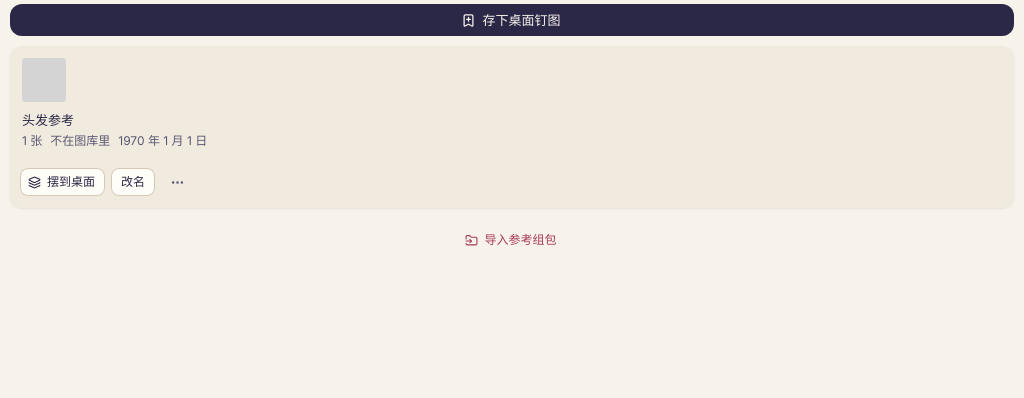
参考组面板 › 参考组自带的截图在成员和缩略图里照常显示
Check: the element with class "reference-group-meta" shows "不在图库里", box [50,133,110,148]
Click the button named "更多操作": x=177, y=182 [161,166,193,198]
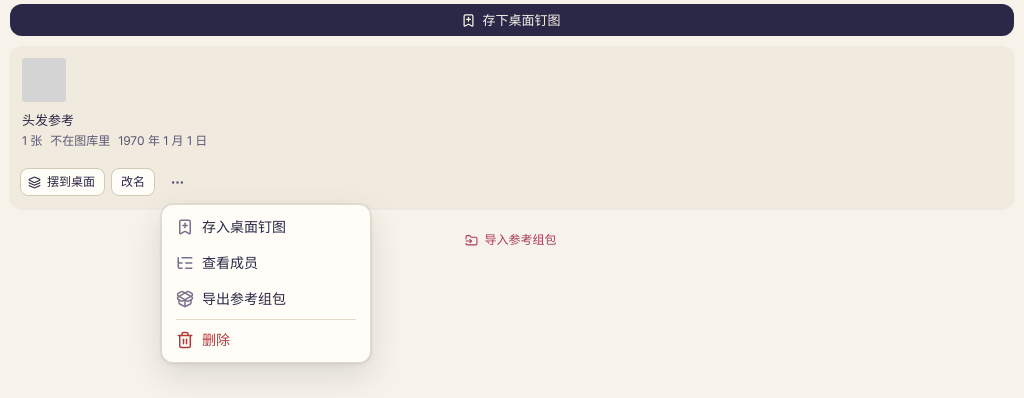
Click the menu item "查看成员": x=217, y=263 [176,254,258,272]
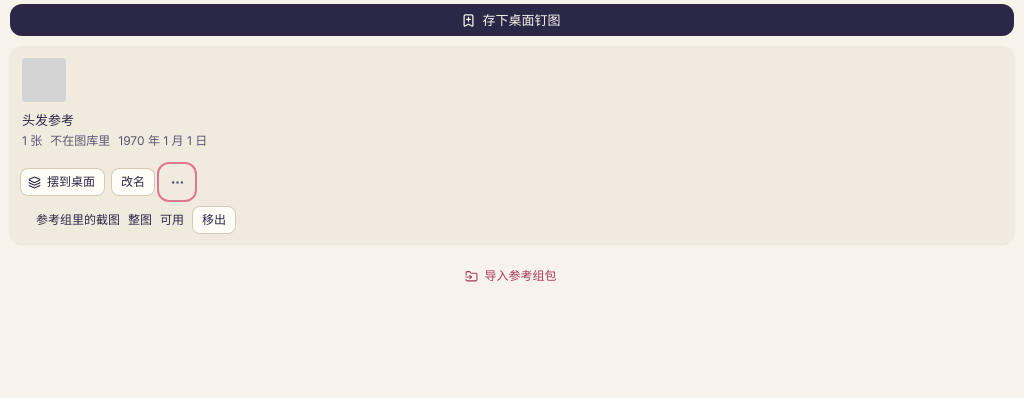
Check: the list named "头发参考 的成员" shows "参考组里的截图", box [36,212,120,227]
